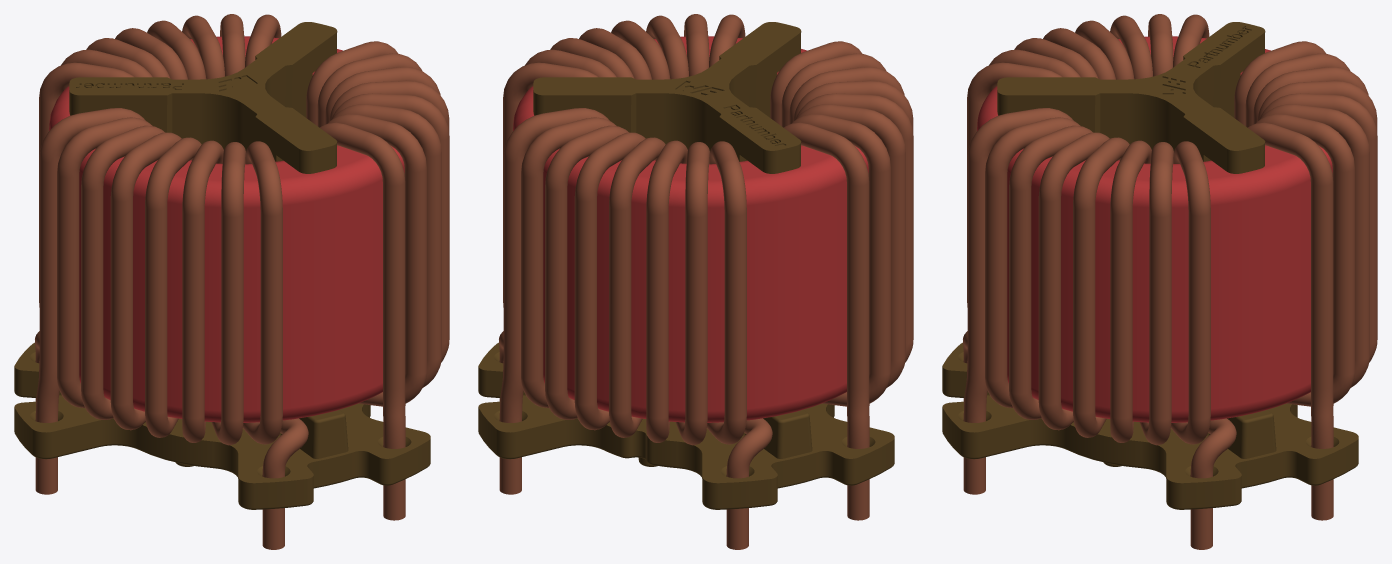
File: WE_TPB Three Phase common Mode Power Line Choke.gltf
3 views of the same model, side by side, from view 1: azimuth 30°, elevation 25°; view 2: azimuth 150°, elevation 25°; view 3: azimuth 270°, elevation 25° (orthographic).
Parts seen in each view (by area): view 1: WIRE_D2,001, CORE-T362325, WIRE_D2,2, BASE-T362325, SPACER-T262325, WIRE_D2,002; view 2: WIRE_D2,002, CORE-T362325, WIRE_D2,001, BASE-T362325, SPACER-T262325, WIRE_D2,2; view 3: WIRE_D2,2, CORE-T362325, WIRE_D2,002, BASE-T362325, SPACER-T262325, WIRE_D2,001.
Part boxes in pixels (bbox=[...]): WIRE_D2,001: bbox=[35, 108, 308, 549]; CORE-T362325: bbox=[49, 36, 404, 422]; WIRE_D2,2: bbox=[306, 41, 449, 520]; BASE-T362325: bbox=[14, 342, 430, 509]; SPACER-T262325: bbox=[69, 22, 337, 173]; WIRE_D2,002: bbox=[35, 14, 281, 401]; WIRE_D2,002: bbox=[499, 108, 772, 549]; CORE-T362325: bbox=[513, 36, 868, 422]; WIRE_D2,001: bbox=[770, 41, 913, 520]; BASE-T362325: bbox=[478, 342, 894, 509]; SPACER-T262325: bbox=[533, 22, 801, 173]; WIRE_D2,2: bbox=[499, 14, 745, 401]; WIRE_D2,2: bbox=[963, 108, 1236, 549]; CORE-T362325: bbox=[977, 36, 1332, 422]; WIRE_D2,002: bbox=[1234, 41, 1377, 520]; BASE-T362325: bbox=[942, 342, 1358, 509]; SPACER-T262325: bbox=[997, 22, 1265, 173]; WIRE_D2,001: bbox=[963, 14, 1209, 401].
Bounding box in the file's own units: 0.0449 × 0.0405 × 0.0427.
